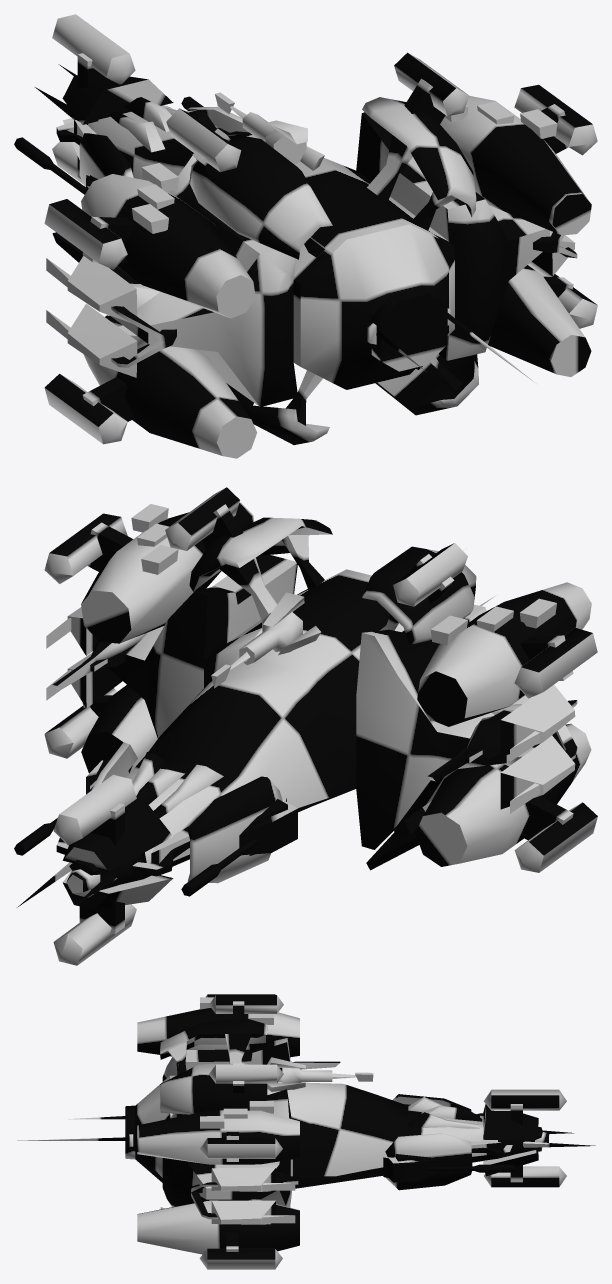
File: vengeance_avenger.obj
The picture shows the model from 3 angles, top to bottom: view 1: azimuth 30°, elevation 25°; view 2: azimuth 150°, elevation 25°; view 3: azimuth 270°, elevation 25°; orthographic projection. The views are drawn at different scales.
Visible parts, largest first — view 1: main; view 2: main; view 3: main.
Boxes of the visible parts, bbox=[...] form: main: bbox=[14, 14, 597, 458]; main: bbox=[14, 487, 597, 965]; main: bbox=[17, 994, 595, 1269].
Size of the model in its own units: 94.81 by 56.08 by 153.
Materials: 1 (1 with a texture image).
